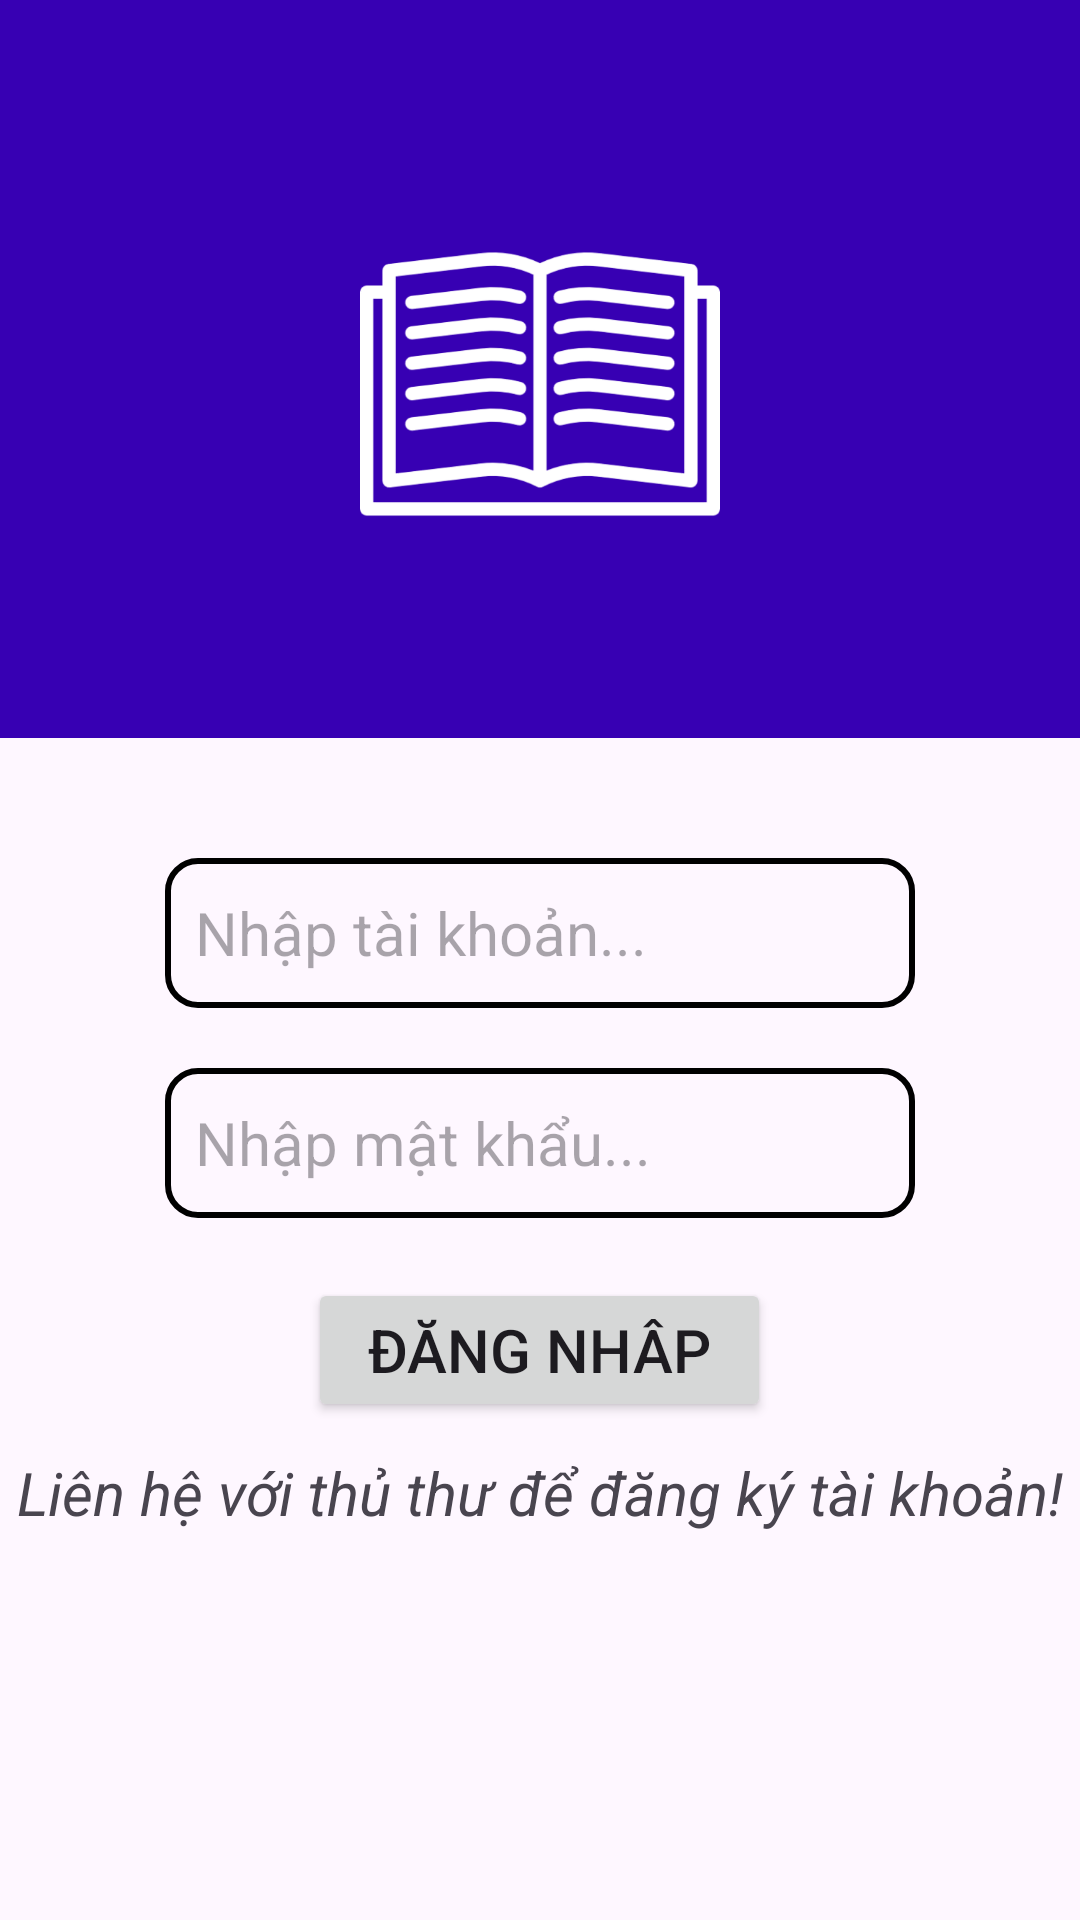

Screen size 1080px×1920px. Icon name, then its center in pixels as point (x, y):
anh thuvien: point (540, 384)
